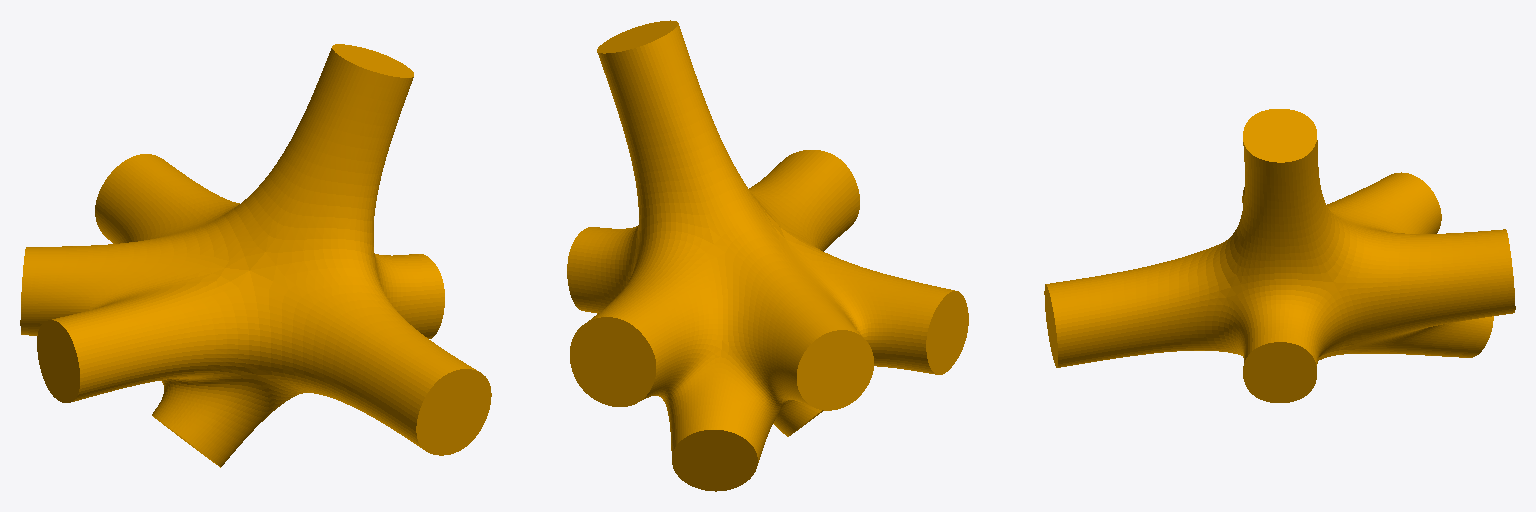
The robot description file, URDF, robot "object":
<robot name="object">
  <link name="object">
    <visual>
      <origin xyz="0 0 0"/>
      <geometry>
        <mesh filename="visual.obj" scale="1 1 1"/>
      </geometry>
    </visual>
    <collision>
      <origin xyz="0 0 0"/>
      <geometry>
        <mesh filename="visual.obj" scale="1 1 1"/>
      </geometry>
    </collision>
    <inertial>
      <mass value="0.05"/>
      <inertia ixx="8.824030260723627e-05" iyy="6.79430065431077e-05" izz="0.00010513366231058279" ixy="1.68179944904904e-05" ixz="-1.126362002012851e-05" iyz="3.0673257150074065e-06"/>
    </inertial>
  </link>
</robot>

--- Render facts (derived) ---
Views: 3 orthographic renders of the robot side by side, from view 1: azimuth 30°, elevation 25°; view 2: azimuth 150°, elevation 25°; view 3: azimuth 270°, elevation 25°.
Model object with 1 links and 0 joints (none), rooted at object, posed all joints at 0.
Visible links, largest first — view 1: object; view 2: object; view 3: object.
Boxes of the visible links, <box> form: object: <box>20,44,491,467</box>; object: <box>567,20,968,491</box>; object: <box>1044,109,1515,402</box>.
Size in the robot's own frame: 0.147 by 0.1857 by 0.1429 metres.
1 mesh visuals loaded from 1 distinct referenced files (1 OBJ).
